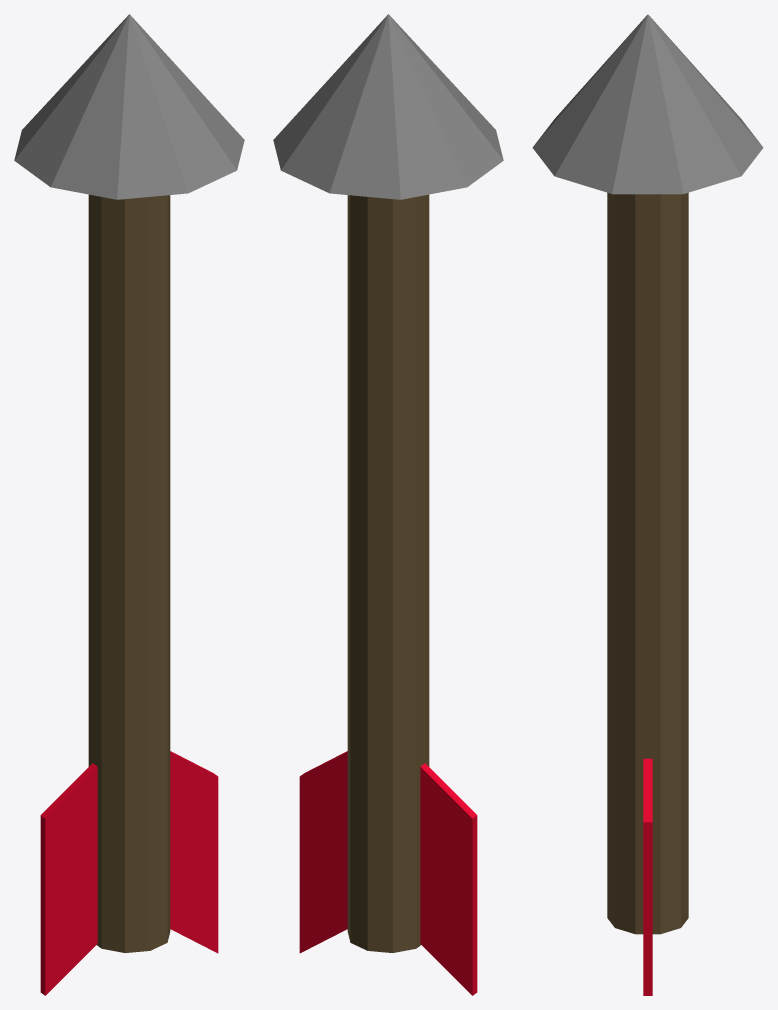
File: arrow.fbx
3 views of the same model, side by side, from view 1: azimuth 30°, elevation 25°; view 2: azimuth 150°, elevation 25°; view 3: azimuth 270°, elevation 25° (orthographic).
Parts seen in each view (by area): view 1: Cylinder; view 2: Cylinder; view 3: Cylinder.
Part boxes in pixels (<box>): Cylinder: <box>14,14,244,995</box>; Cylinder: <box>273,14,503,995</box>; Cylinder: <box>532,14,763,995</box>.
Bounding box in the file's own units: 91.56 × 432 × 96.27.
